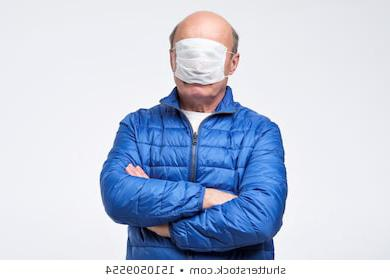mask_weared_incorrect: (168, 29, 233, 93)
